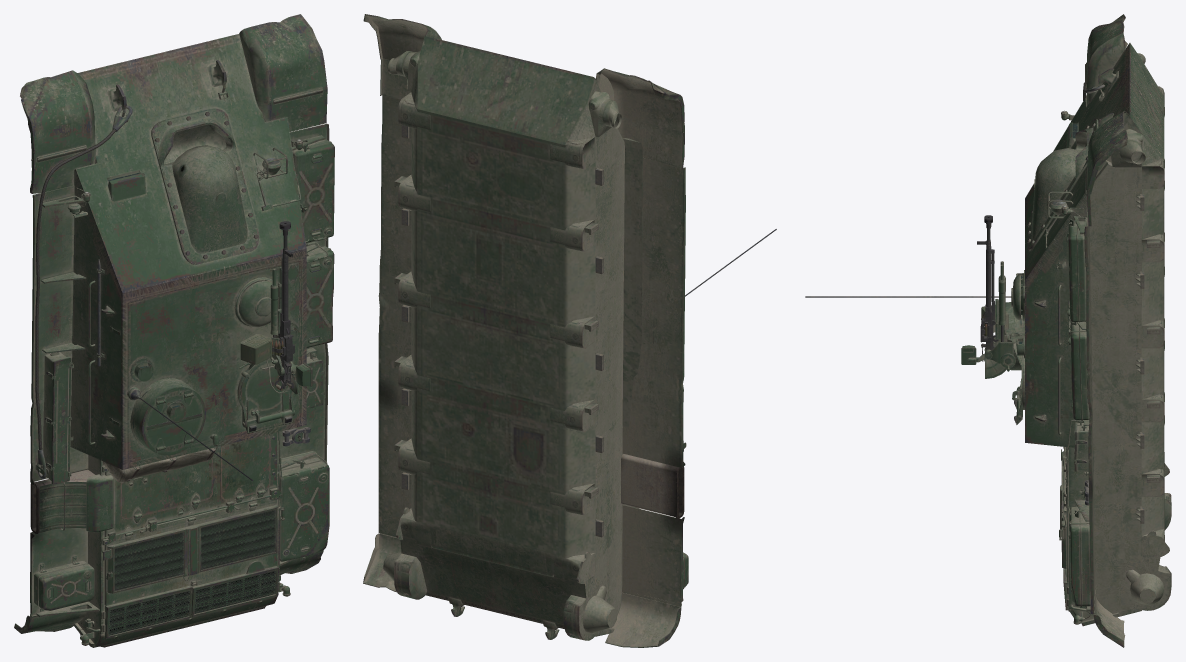
Rendered from Hull.glb.
3 renders of one model, left to right at view 1: azimuth 30°, elevation 25°; view 2: azimuth 150°, elevation 25°; view 3: azimuth 270°, elevation 25°, orthographic. The views are drawn at different scales.
Parts seen in each view (by area): view 1: set_0_group_0; view 2: set_0_group_0; view 3: set_0_group_0.
Boxes of the visible parts, x1=… form: set_0_group_0: x1=14, y1=14, x2=334, y2=647; set_0_group_0: x1=363, y1=14, x2=776, y2=647; set_0_group_0: x1=805, y1=14, x2=1171, y2=647.
Size of the model in its own units: 3.03 by 5.49 by 3.54.
Materials: 1 (1 with a texture image).
